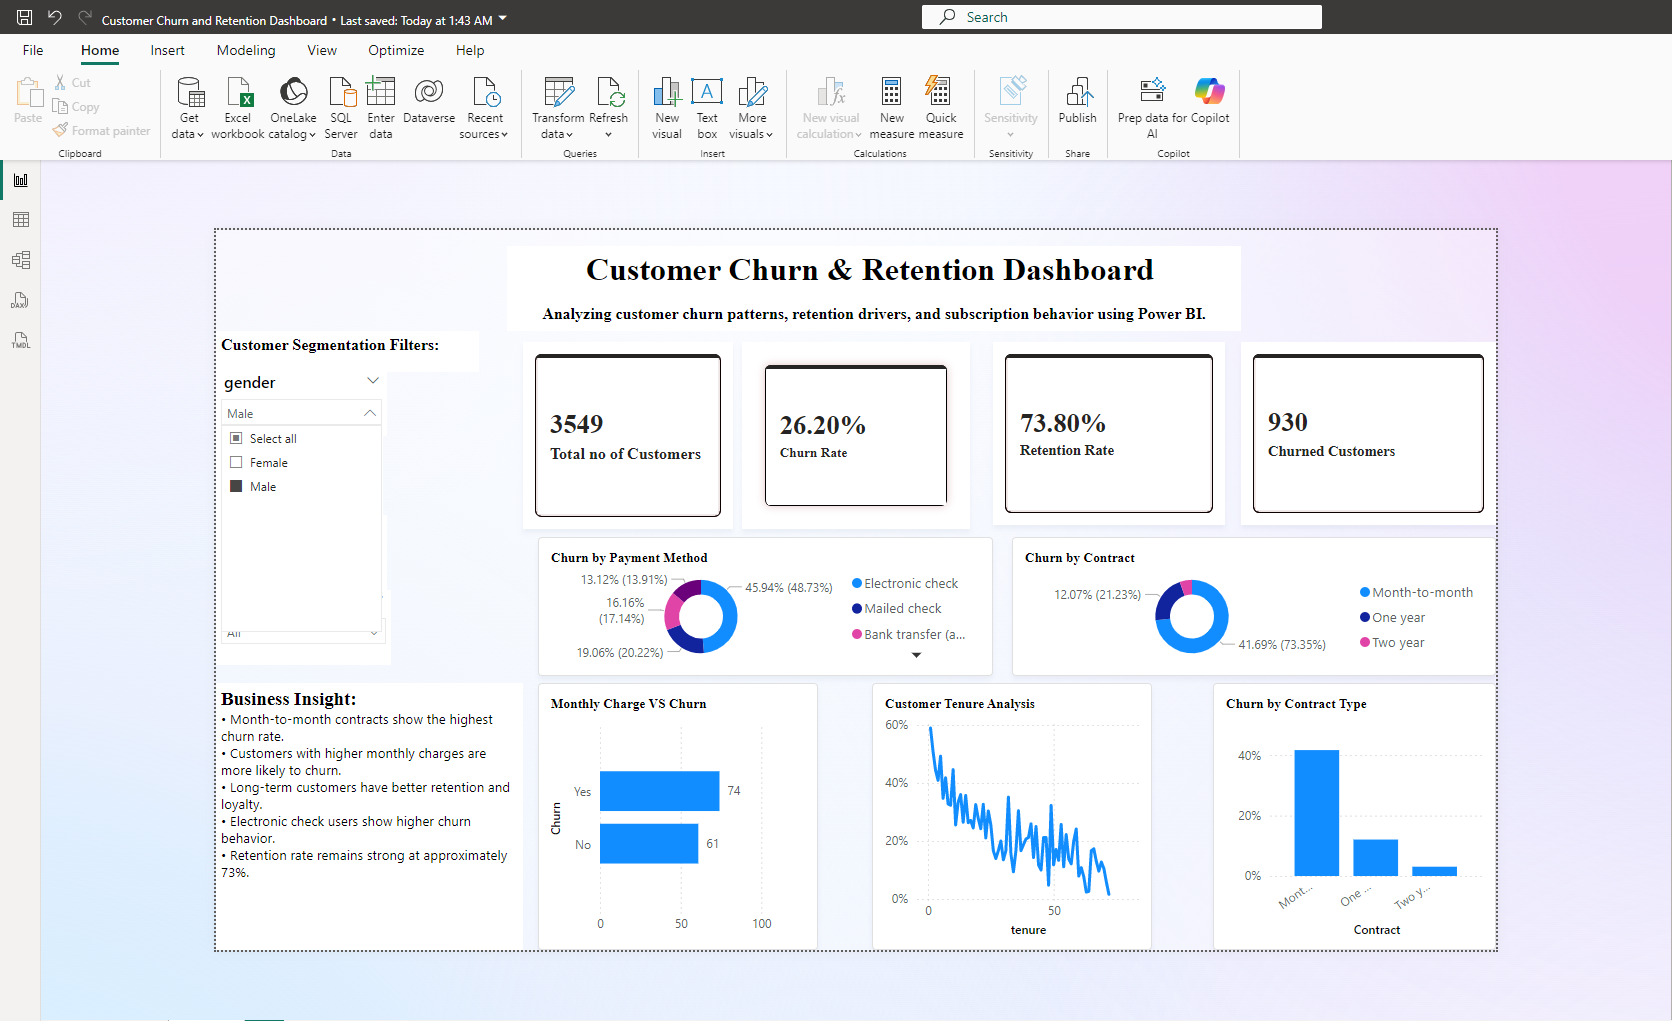

This screenshot's page, from the dashboard's own definition file:
{"tool":"powerbi","page":{"name":"Page 1","canvas":[1280,720],"ordinal":0},"visuals":[{"type":"cardVisual","fields":{"Data":["Sum(cleaned_churn_data.ChurnValue)"]},"box":[1025,112,255,183],"z":0},{"type":"cardVisual","fields":{"Data":["Count(cleaned_churn_data.customerID)"]},"box":[307,112,210,187],"z":1000},{"type":"cardVisual","fields":{"Data":["cleaned_churn_data.Churn Rate"]},"box":[526,112,228,187],"z":2000},{"type":"cardVisual","fields":{"Data":["cleaned_churn_data.Retention Rate"]},"box":[777,112,232,183],"z":3000},{"type":"clusteredColumnChart","title":"Churn by Contract Type","fields":{"Y":["cleaned_churn_data.Churn Percentage"],"Category":["cleaned_churn_data.Contract"]},"box":[997,453,283,267],"z":4000},{"type":"donutChart","title":"Churn  by Payment Method","fields":{"Category":["cleaned_churn_data.PaymentMethod"],"Y":["cleaned_churn_data.Churn Percentage"]},"box":[322,307,455,139],"z":5000},{"type":"donutChart","title":"Churn by Contract","fields":{"Y":["cleaned_churn_data.Churn Percentage"],"Category":["cleaned_churn_data.Contract"]},"box":[796,307,484,139],"z":6000},{"type":"clusteredBarChart","title":"Monthly Charge VS Churn ","fields":{"Category":["cleaned_churn_data.Churn"],"Y":["Avg(cleaned_churn_data.MonthlyCharges)"]},"box":[322,453,280,267],"z":7000},{"type":"lineChart","title":"Customer Tenure Analysis","fields":{"Category":["cleaned_churn_data.tenure"],"Y":["cleaned_churn_data.Churn Percentage"]},"box":[656,453,280,267],"z":8000},{"type":"slicer","fields":{"Values":["cleaned_churn_data.gender"]},"box":[0,141,171,65],"z":9000},{"type":"slicer","fields":{"Values":["cleaned_churn_data.Contract"]},"box":[0,206,167,79],"z":10000},{"type":"slicer","fields":{"Values":["cleaned_churn_data.InternetService"]},"box":[0,285,171,75],"z":10001},{"type":"slicer","fields":{"Values":["cleaned_churn_data.PaymentMethod"]},"box":[0,360,175,75],"z":10002},{"type":"textbox","box":[291,16,734,85],"z":10003},{"type":"textbox","box":[0,453,307,267],"z":10004},{"type":"textbox","box":[0,101,263,41],"z":10005}]}

Visuals, with their boxes on the page's 1280x720 design canvas (x1, y1, x2, y2). These are canvas units, not pixel positions in the 1672x1021 screenshot, which may show the page scaled, cropped or inside an application window:
cardVisual - Sum(cleaned_churn_data.ChurnValue): 1025/112/1280/295
cardVisual - Count(cleaned_churn_data.customerID): 307/112/517/299
cardVisual - cleaned_churn_data.Churn Rate: 526/112/754/299
cardVisual - cleaned_churn_data.Retention Rate: 777/112/1009/295
"Churn by Contract Type" clusteredColumnChart: 997/453/1280/720
"Churn  by Payment Method" donutChart: 322/307/777/446
"Churn by Contract" donutChart: 796/307/1280/446
"Monthly Charge VS Churn " clusteredBarChart: 322/453/602/720
"Customer Tenure Analysis" lineChart: 656/453/936/720
slicer - cleaned_churn_data.gender: 0/141/171/206
slicer - cleaned_churn_data.Contract: 0/206/167/285
slicer - cleaned_churn_data.InternetService: 0/285/171/360
slicer - cleaned_churn_data.PaymentMethod: 0/360/175/435
textbox: 291/16/1025/101
textbox: 0/453/307/720
textbox: 0/101/263/142
